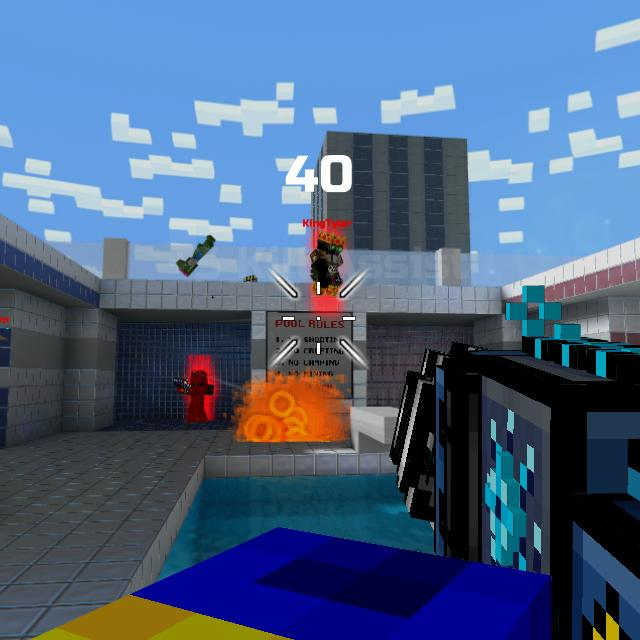Enemy: (310, 234, 343, 297), (177, 370, 214, 423)
